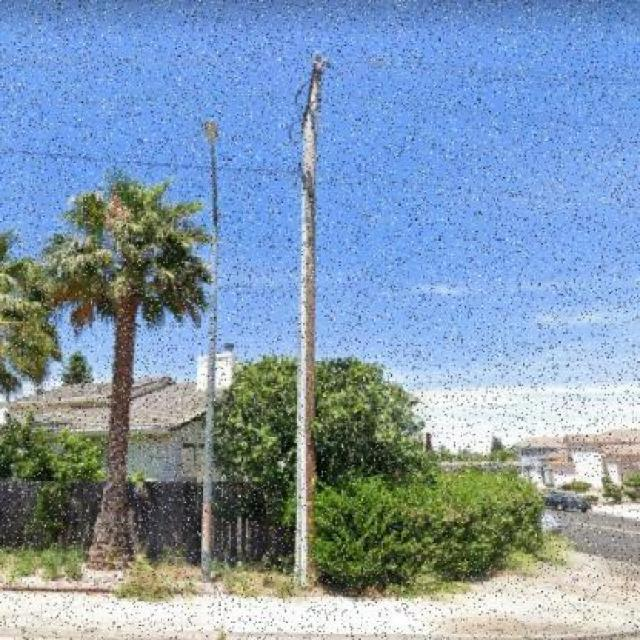pole: (268, 31, 366, 598)
